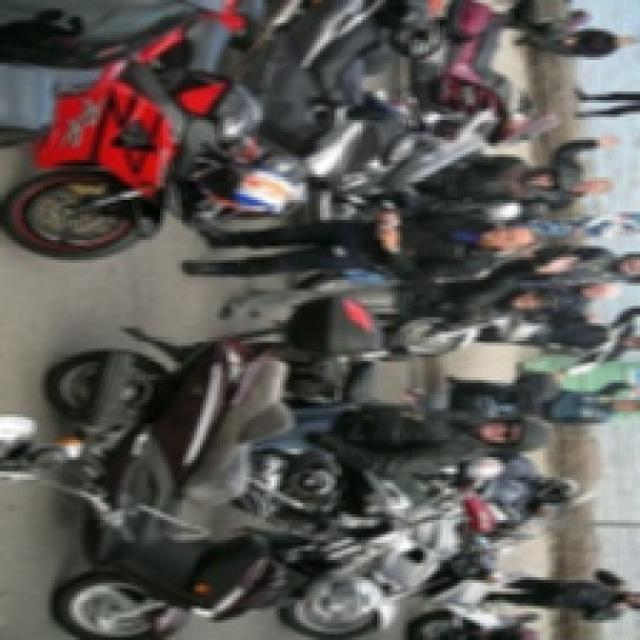bike: (62, 323, 327, 634), (23, 1, 273, 268), (245, 2, 453, 206), (257, 355, 404, 581), (297, 500, 506, 638), (437, 6, 553, 158)
